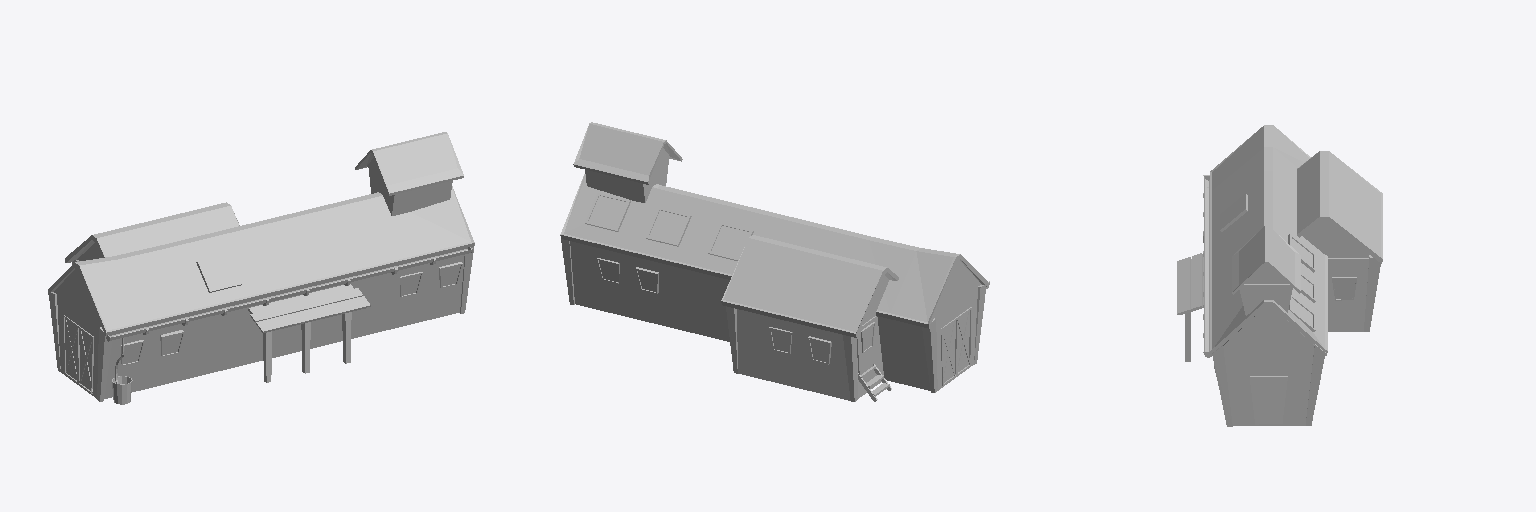
Rendered from house1.obj.
3 views of the same model, side by side, from view 1: azimuth 30°, elevation 25°; view 2: azimuth 150°, elevation 25°; view 3: azimuth 270°, elevation 25° (orthographic).
Parts seen in each view (by area): view 1: pCube619; view 2: pCube619; view 3: pCube619.
Part boxes in pixels (left/top/right/bottom): pCube619: left=48, top=132, right=474, bottom=404; pCube619: left=560, top=122, right=989, bottom=401; pCube619: left=1177, top=125, right=1382, bottom=426.
Size of the model in its own units: 17.04 by 7.35 by 8.25.